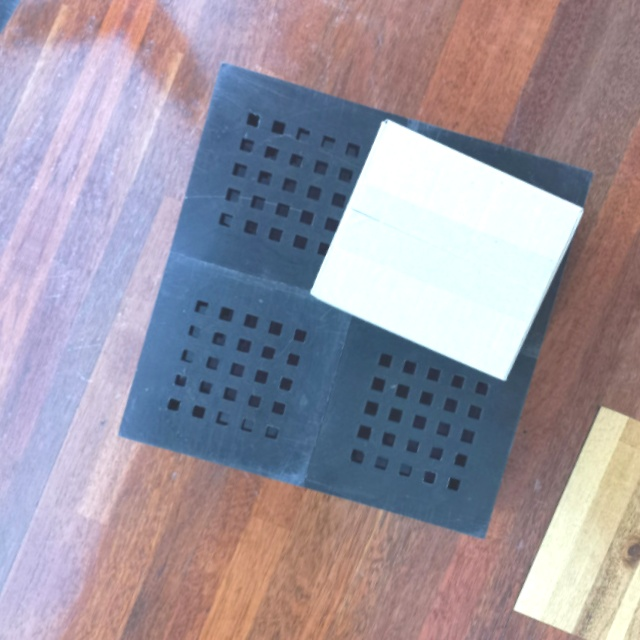box: (306, 122, 588, 382)
pallet: (101, 52, 593, 544)
